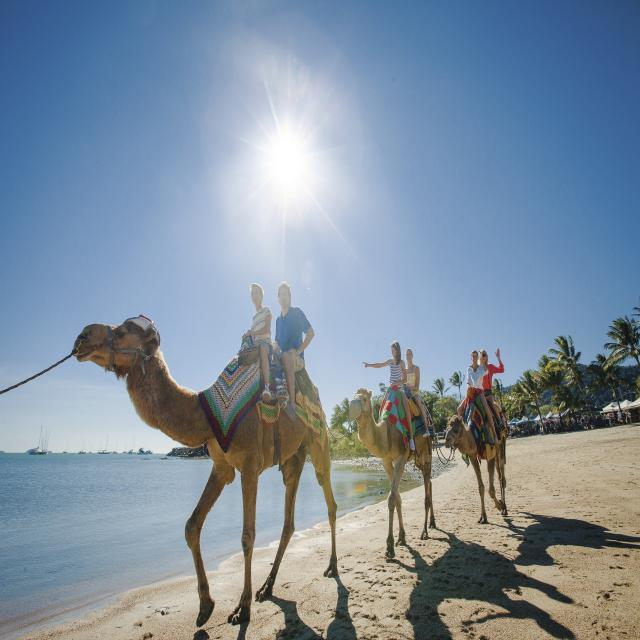body: (464, 566, 580, 640), (362, 340, 415, 451), (274, 283, 316, 423), (238, 280, 274, 405), (456, 350, 498, 447), (508, 412, 618, 438), (401, 348, 431, 438), (478, 346, 506, 434), (599, 524, 640, 553), (622, 409, 640, 425), (616, 409, 622, 426)
